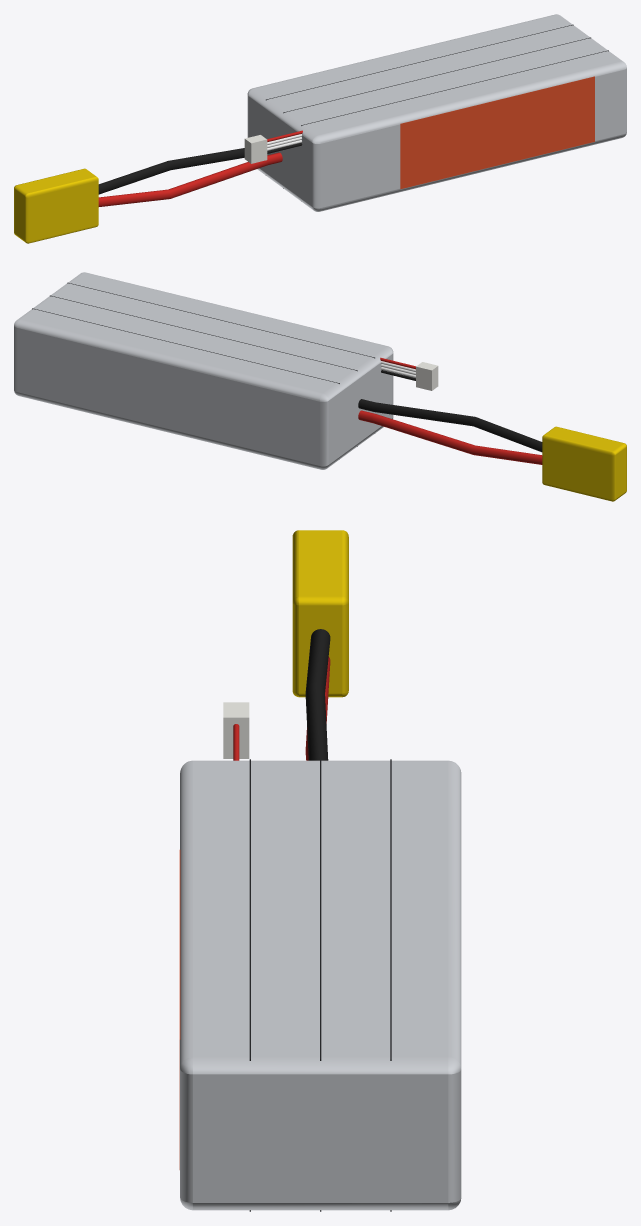
The model's file is betafpv-lava-4s-550.glb.
The picture shows the model from 3 angles, top to bottom: view 1: azimuth 30°, elevation 25°; view 2: azimuth 150°, elevation 25°; view 3: azimuth 270°, elevation 25°; orthographic projection. The views are drawn at different scales.
Parts seen in each view (by area): view 1: body, label, connector, lead_red, lead_black, balance_plug, cell_seam_2, cell_seam_1, cell_seam_3; view 2: body, connector, lead_black, lead_red, balance_plug, cell_seam_1, cell_seam_2, cell_seam_3; view 3: body, connector, lead_black, balance_plug.
Boxes of the visible parts, box(x1,y1,x2,y2) form: body: box(247, 14, 626, 211); label: box(400, 76, 594, 189); connector: box(14, 168, 98, 243); lead_red: box(98, 152, 282, 206); lead_black: box(98, 148, 244, 194); balance_plug: box(244, 135, 267, 163); cell_seam_2: box(283, 37, 590, 188); cell_seam_1: box(266, 24, 573, 100); cell_seam_3: box(301, 50, 608, 125); body: box(14, 272, 393, 469); connector: box(542, 426, 626, 501); lead_black: box(358, 399, 542, 452); lead_red: box(358, 410, 542, 464); balance_plug: box(416, 362, 438, 390); cell_seam_1: box(32, 308, 339, 383); cell_seam_2: box(50, 295, 357, 446); cell_seam_3: box(67, 282, 374, 358); body: box(180, 760, 461, 1210); connector: box(292, 530, 348, 697); lead_black: box(305, 629, 330, 760); balance_plug: box(223, 702, 249, 758).
Bounding box in the file's own units: 123 × 15.72 × 26.04.
